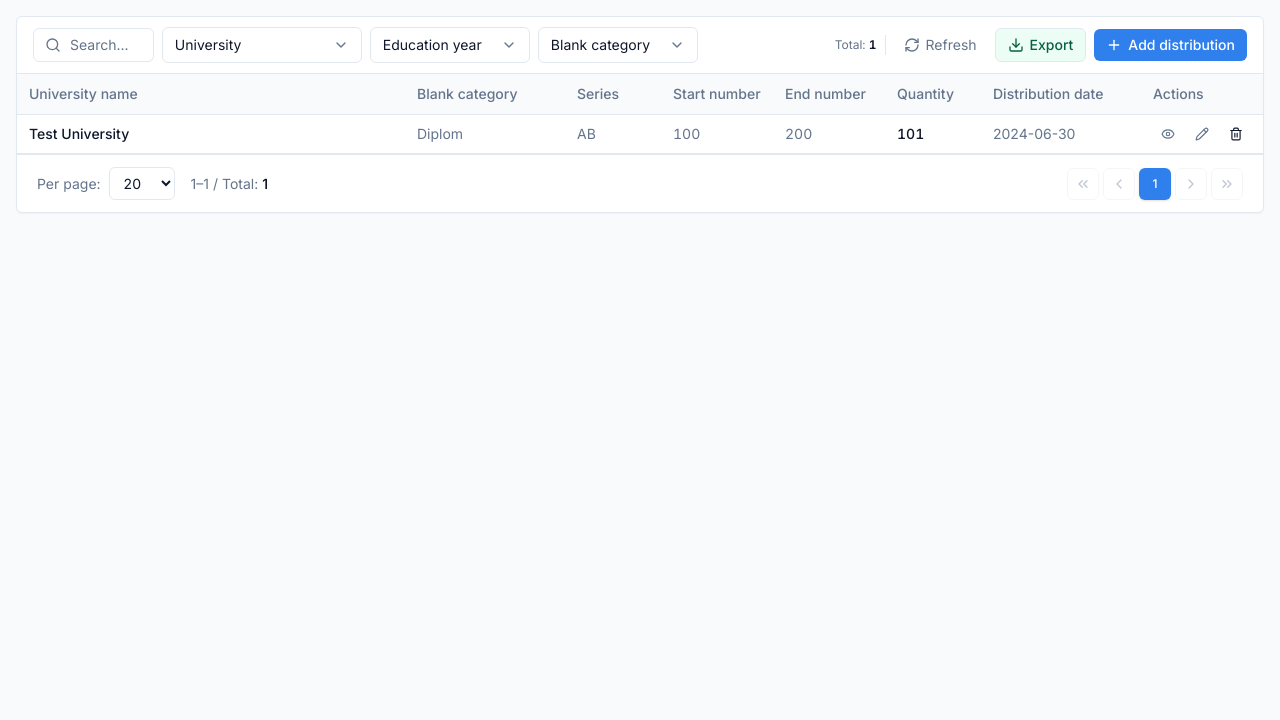
Test case: DistributionPage › opens the edit dialog from a row action
Expected: the text "Test University" is shown, [17,114,405,154]
Click the button named "Edit" at (1202, 134), box [1187,123,1217,145]
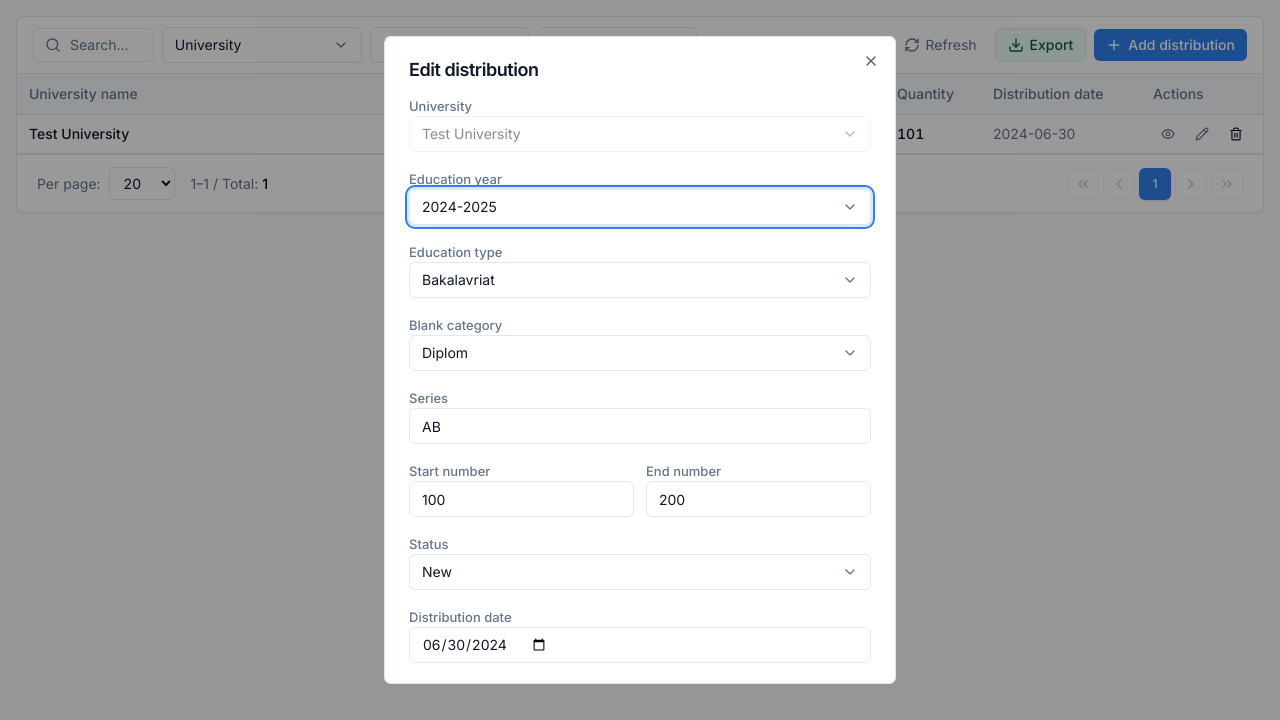
Expected: the heading "Edit distribution" is shown, [409,59,538,80]
